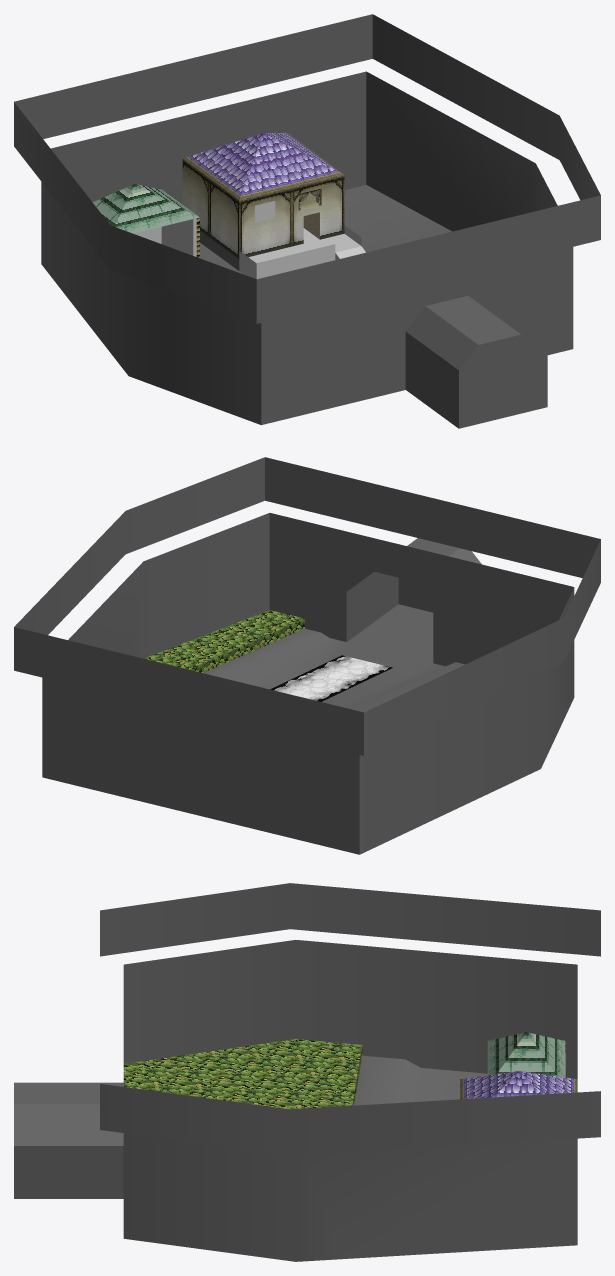
File: outside links house e0m2.fbx
3 renders of one model, top to bottom at view 1: azimuth 30°, elevation 25°; view 2: azimuth 150°, elevation 25°; view 3: azimuth 270°, elevation 25°, orthographic. The views are drawn at different scales.
Visible parts, largest first — view 1: mesh_38, mesh_115; view 2: mesh_38, mesh_115, mesh_117; view 3: mesh_38, mesh_115.
Boxes of the visible parts, bbox=[...] form: mesh_38: bbox=[41, 71, 573, 428]; mesh_115: bbox=[14, 14, 600, 323]; mesh_38: bbox=[42, 513, 574, 854]; mesh_115: bbox=[14, 457, 600, 755]; mesh_117: bbox=[347, 604, 433, 662]; mesh_38: bbox=[14, 940, 577, 1261]; mesh_115: bbox=[100, 883, 600, 1155].
Size of the model in its own units: 4378 by 1472 by 4800.
